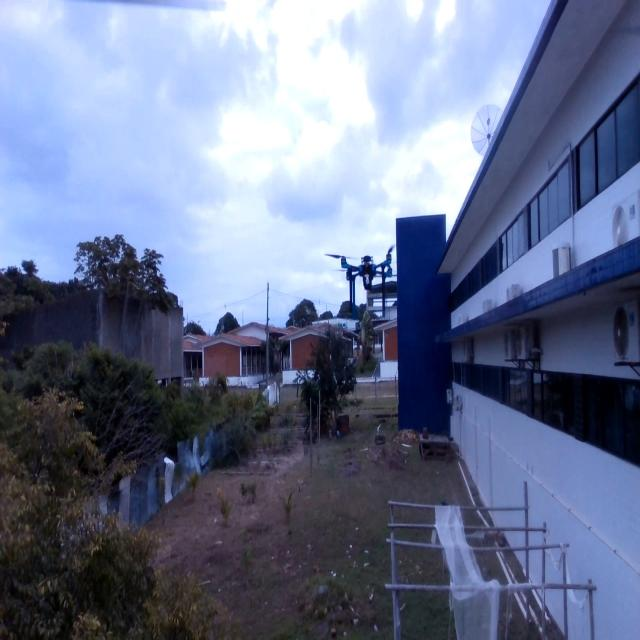-uav-: (314, 232, 420, 332)
